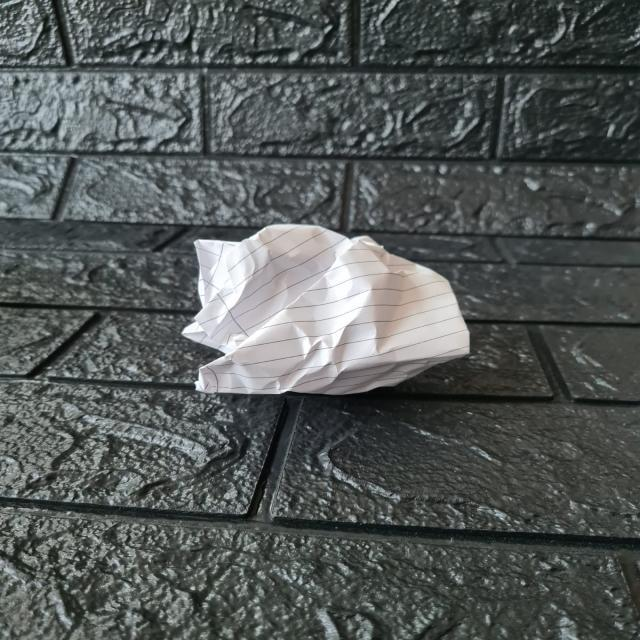Paper: (184, 220, 471, 400)
